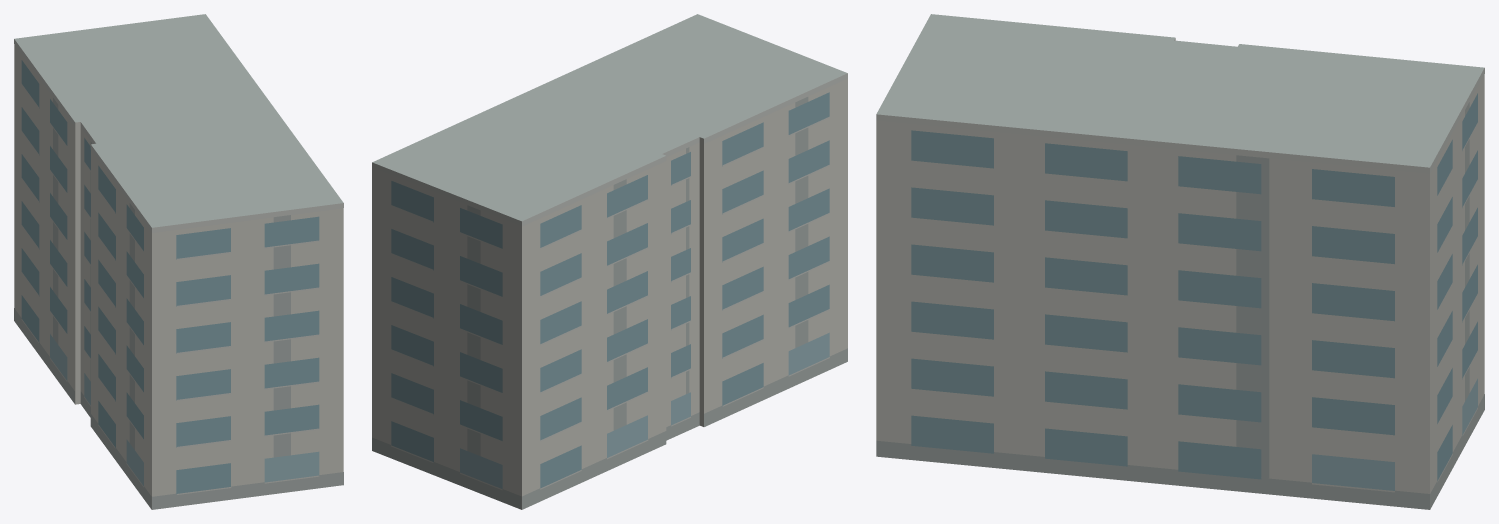
Rendered from survey-upis-32704110.glb.
3 views of the same model, side by side, from view 1: azimuth 30°, elevation 25°; view 2: azimuth 150°, elevation 25°; view 3: azimuth 270°, elevation 25° (orthographic). The views are drawn at different scales.
Visible parts, largest first — view 1: survey-upis-32704110.tmp; view 2: survey-upis-32704110.tmp; view 3: survey-upis-32704110.tmp.
Boxes of the visible parts, x1,y1,x2,y2 form: survey-upis-32704110.tmp: (14,14,343,509); survey-upis-32704110.tmp: (372,14,847,509); survey-upis-32704110.tmp: (876,14,1484,509).
Bounding box in the file's own units: 12.91 × 13.4 × 21.6.
